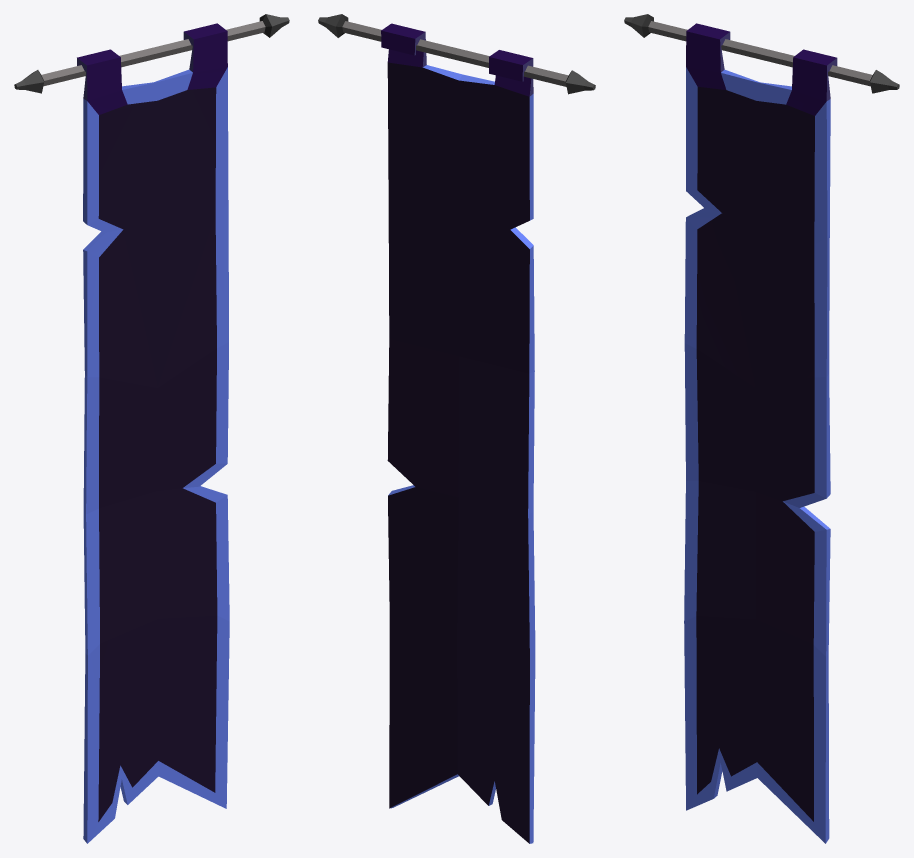
The model's file is Banner_Blue_01.glb.
The picture shows the model from 3 angles, left to right: view 1: azimuth 30°, elevation 25°; view 2: azimuth 150°, elevation 25°; view 3: azimuth 330°, elevation 25°; orthographic projection.
Parts seen in each view (by area): view 1: Banner_Blue_01; view 2: Banner_Blue_01; view 3: Banner_Blue_01.
Part boxes in pixels (x1,y1,x2,y2): Banner_Blue_01: [14, 14, 289, 843]; Banner_Blue_01: [318, 14, 595, 843]; Banner_Blue_01: [624, 14, 899, 843].
Size of what is drawn, in the model's own units: 0.6598 by 1.81 by 0.0546.
Materials: 1 (1 with a texture image).
